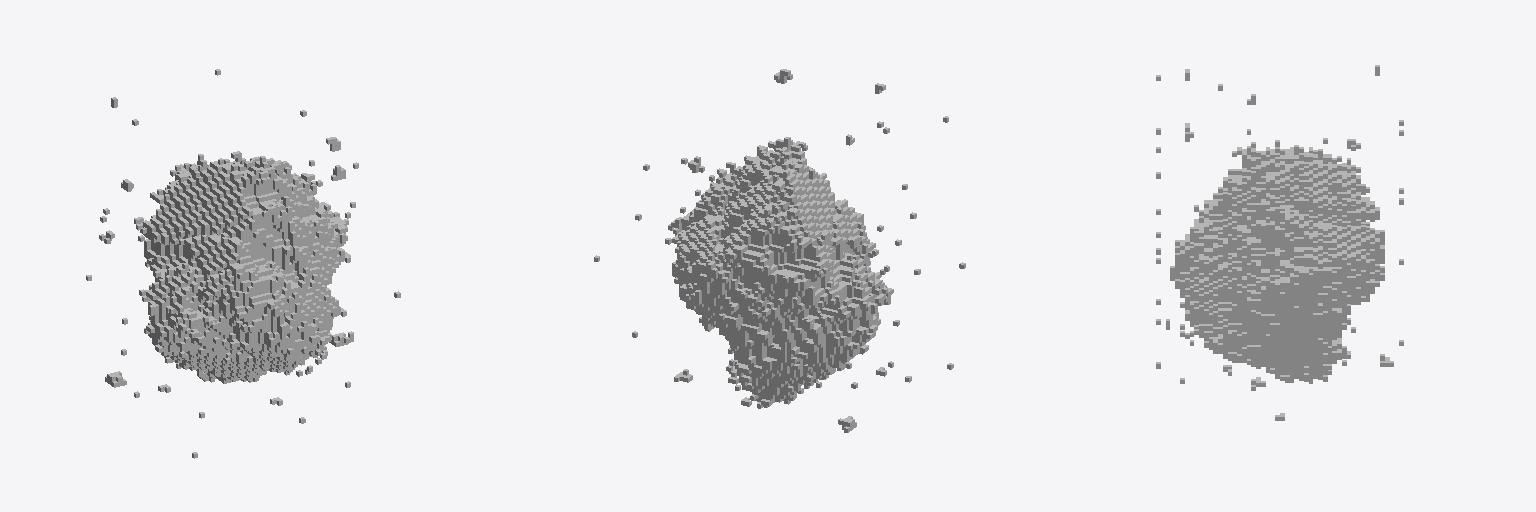
File: Portal.obj
3 renders of one model, left to right at view 1: azimuth 30°, elevation 25°; view 2: azimuth 150°, elevation 25°; view 3: azimuth 270°, elevation 25°, orthographic.
Parts seen in each view (by area): view 1: object 1; view 2: object 1; view 3: object 1.
Boxes of the visible parts, <box> form: object 1: <box>86,69,400,458</box>; object 1: <box>594,69,965,432</box>; object 1: <box>1156,65,1403,420</box>.
Bounding box in the file's own units: 6.6 × 7.1 × 5.2.